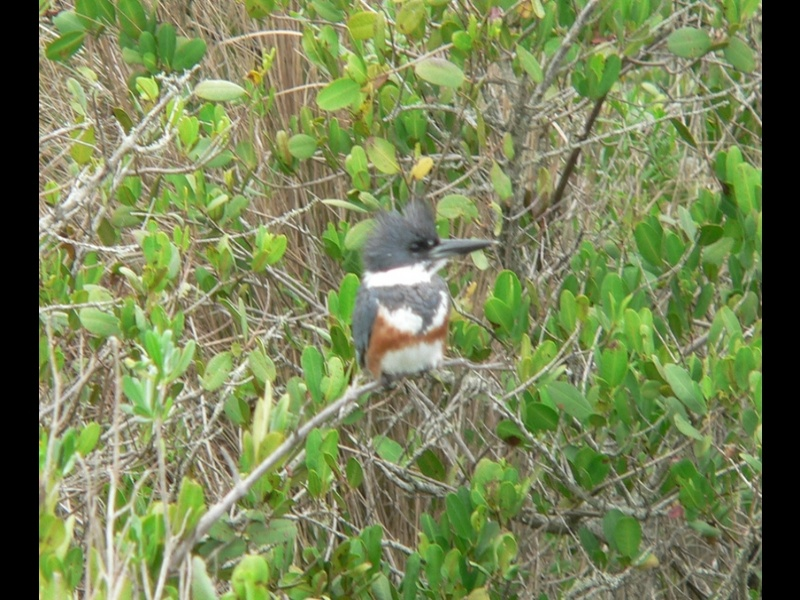kingfisher: (357, 206, 502, 391)
